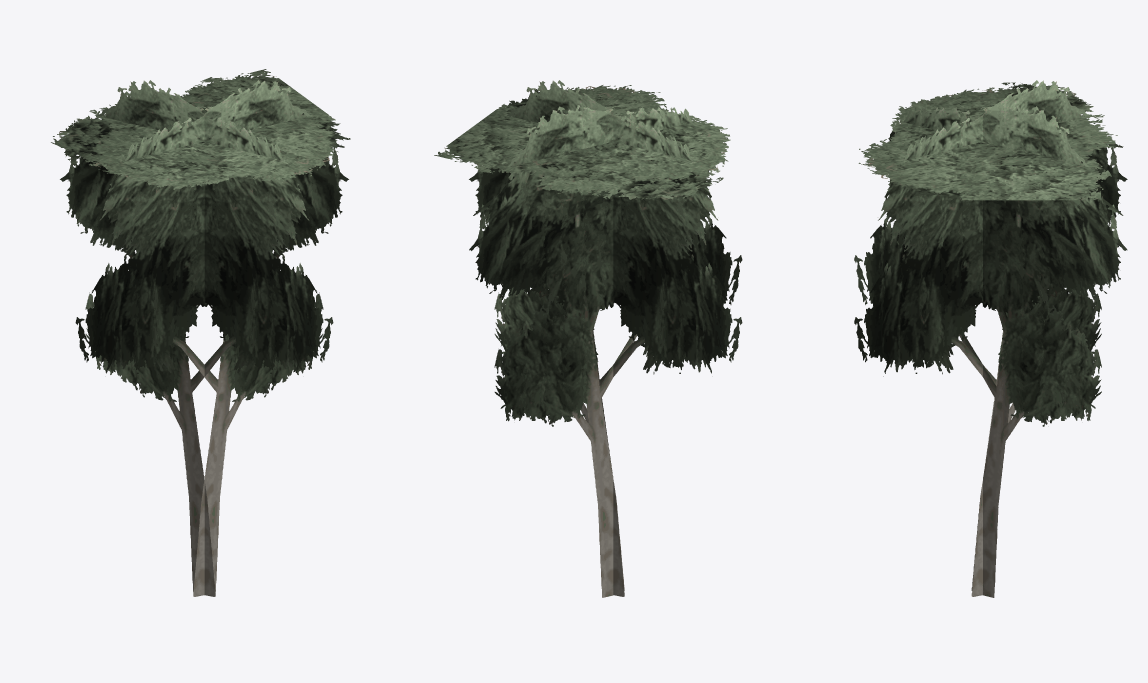
Rendered from tree_eucalyptus_lod1.glb.
The picture shows the model from 3 angles, left to right: view 1: azimuth 30°, elevation 25°; view 2: azimuth 150°, elevation 25°; view 3: azimuth 270°, elevation 25°; orthographic projection.
Parts seen in each view (by area): view 1: tree_eucalyptus_lod1; view 2: tree_eucalyptus_lod1; view 3: tree_eucalyptus_lod1.
Part boxes in pixels (left/top/right/bottom): tree_eucalyptus_lod1: left=51, top=69, right=350, bottom=596; tree_eucalyptus_lod1: left=434, top=80, right=742, bottom=597; tree_eucalyptus_lod1: left=854, top=80, right=1127, bottom=597.
Size of the model in its own units: 14.31 by 23.01 by 12.39.
Materials: 1 (1 with a texture image).
